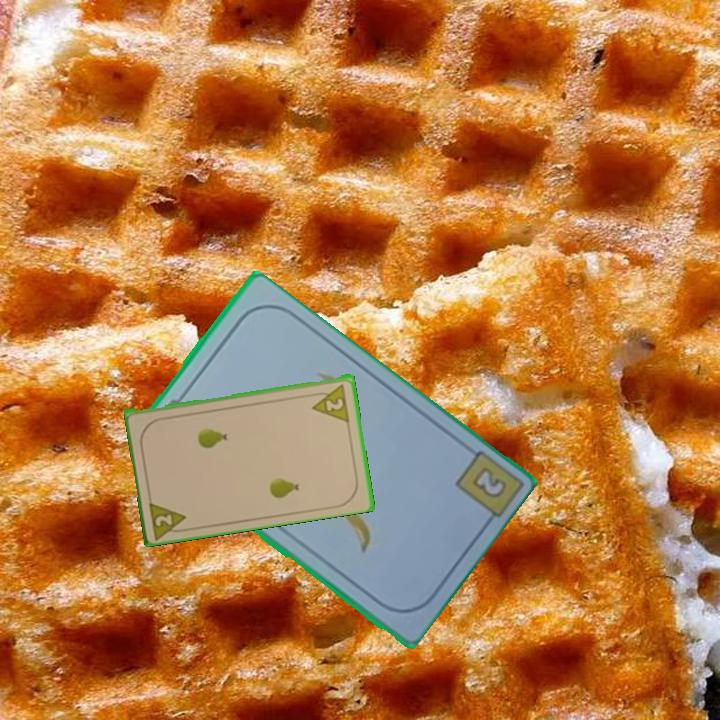2b: (467, 463, 509, 502)
2p: (307, 379, 352, 424), (146, 496, 192, 540)
